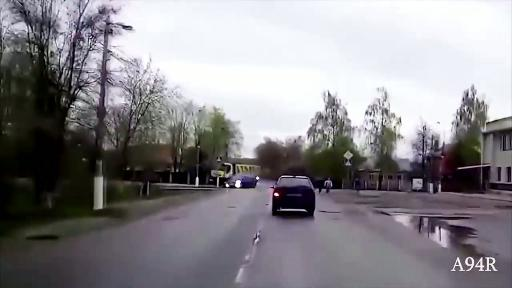Accident: (200, 145, 280, 193)
CAR: (273, 169, 320, 224)
